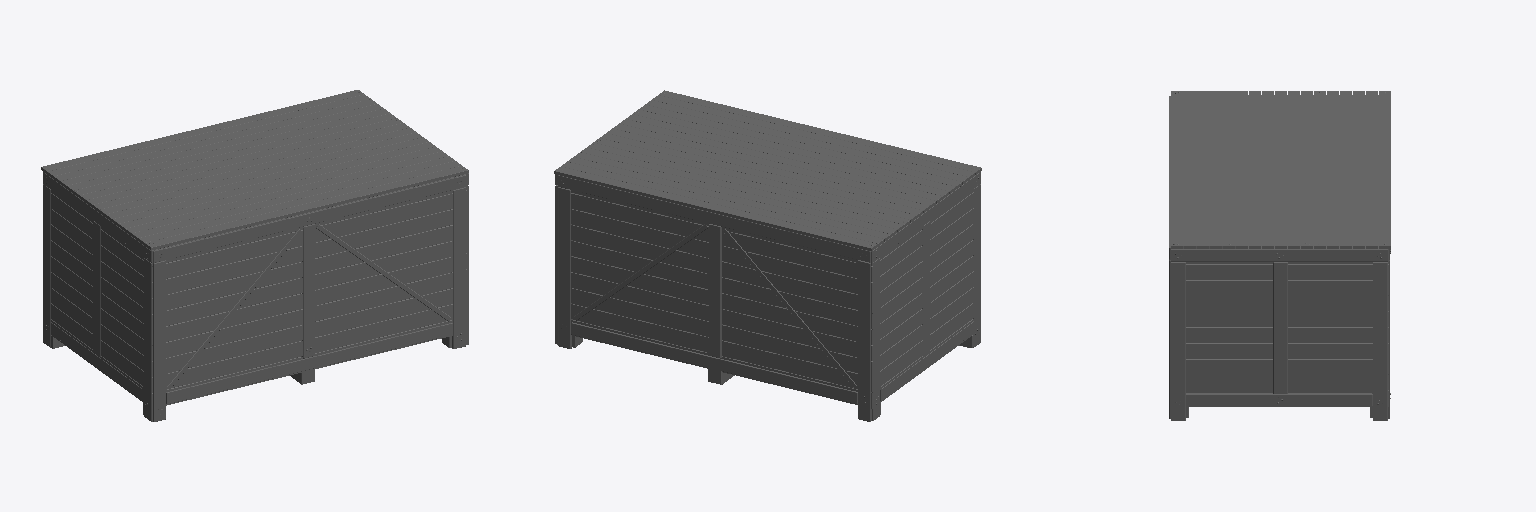
3 views of the same model, side by side, from view 1: azimuth 30°, elevation 25°; view 2: azimuth 150°, elevation 25°; view 3: azimuth 270°, elevation 25° (orthographic).
Parts seen in each view (by area): view 1: Archmodels_115_051_03, Archmodels_115_051_04, Archmodels_115_051_01, Archmodels_115_051_09; view 2: Archmodels_115_051_03, Archmodels_115_051_04, Archmodels_115_051_08, Archmodels_115_051_09; view 3: Archmodels_115_051_04, Archmodels_115_051_03, Archmodels_115_051_05, Archmodels_115_051_01.
Part boxes in pixels (left/top/right/bottom): Archmodels_115_051_03: left=43, top=174, right=466, bottom=408; Archmodels_115_051_04: left=41, top=90, right=468, bottom=250; Archmodels_115_051_01: left=153, top=175, right=465, bottom=421; Archmodels_115_051_09: left=43, top=172, right=152, bottom=421; Archmodels_115_051_03: left=571, top=183, right=980, bottom=408; Archmodels_115_051_04: left=554, top=90, right=981, bottom=251; Archmodels_115_051_08: left=558, top=175, right=871, bottom=421; Archmodels_115_051_09: left=872, top=172, right=980, bottom=420; Archmodels_115_051_04: left=1171, top=91, right=1390, bottom=248; Archmodels_115_051_03: left=1186, top=95, right=1388, bottom=406; Archmodels_115_051_05: left=1171, top=249, right=1387, bottom=420; Archmodels_115_051_01: left=1169, top=96, right=1170, bottom=418.
Bounding box in the file's own units: 253 × 133 × 153.